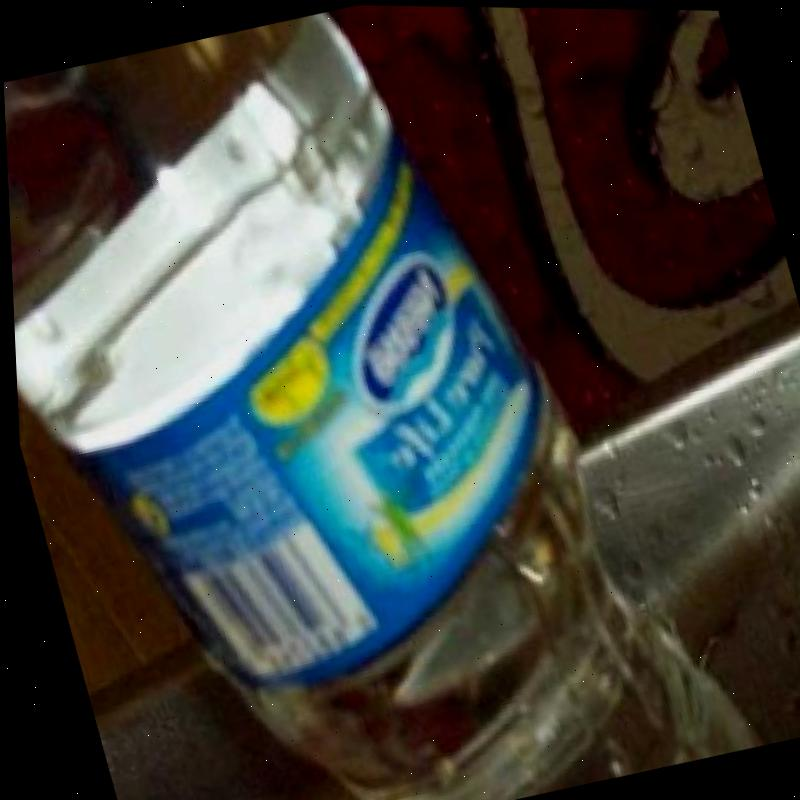botella: (0, 0, 755, 800)
